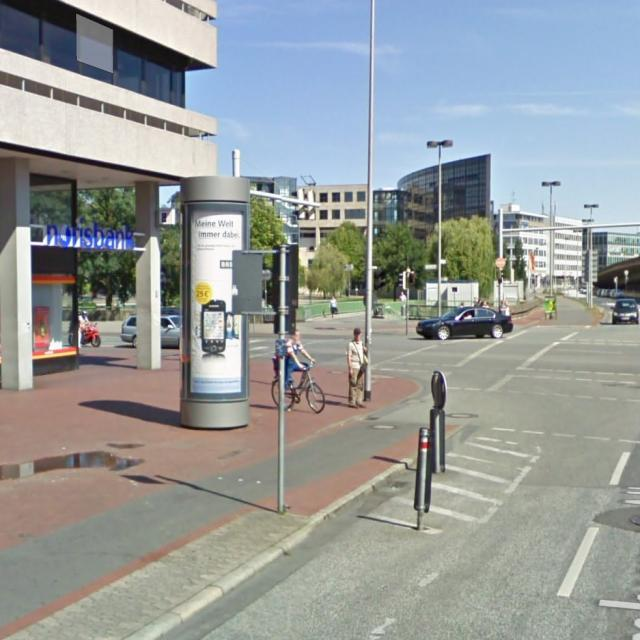Werbetafel frei: (184, 201, 250, 402)
